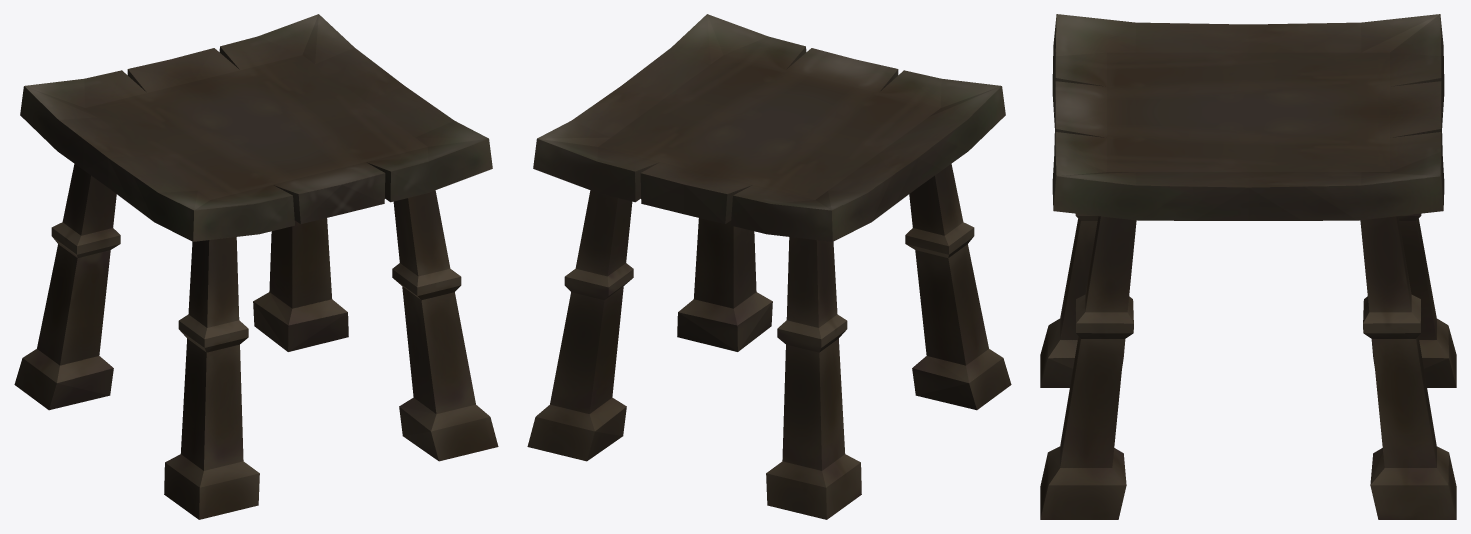
Rendered from SM_taboret.fbx.
3 renders of one model, left to right at view 1: azimuth 30°, elevation 25°; view 2: azimuth 150°, elevation 25°; view 3: azimuth 270°, elevation 25°, orthographic. The views are drawn at different scales.
Visible parts, largest first — view 1: taboret; view 2: taboret; view 3: taboret.
Boxes of the visible parts, x1,y1,x2,y2 form: taboret: (14,14,498,519); taboret: (527,14,1011,519); taboret: (1040,14,1456,519).
Bounding box in the file's own units: 51.18 × 49.42 × 54.38.
